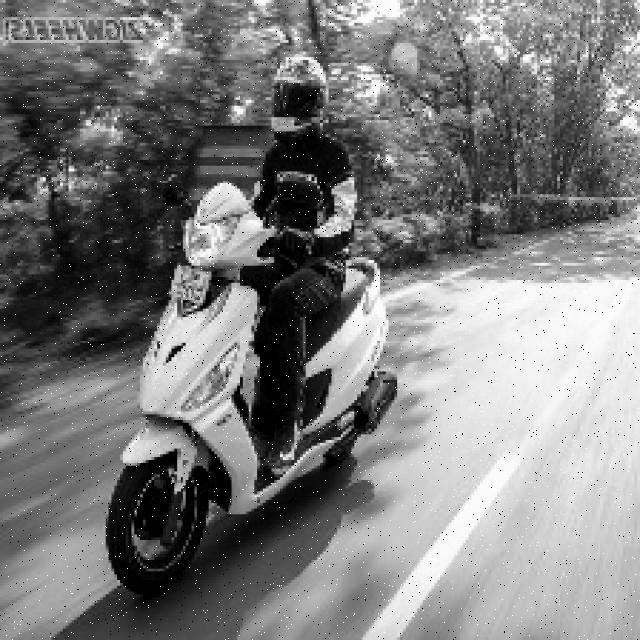Bike: (99, 207, 393, 595)
